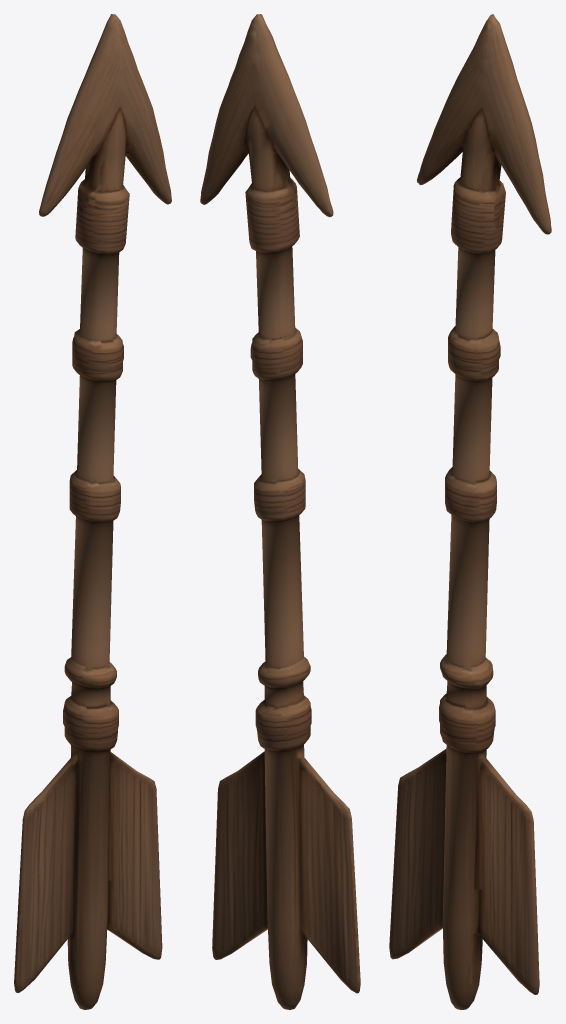
File: Weapons__primitive_arrow_e6a0532e_v3.cluster.glb
3 views of the same model, side by side, from view 1: azimuth 30°, elevation 25°; view 2: azimuth 150°, elevation 25°; view 3: azimuth 330°, elevation 25° (orthographic).
Parts seen in each view (by area): view 1: mesh_input; view 2: mesh_input; view 3: mesh_input.
Part boxes in pixels (<box>): mesh_input: <box>14,14,171,1009</box>; mesh_input: <box>200,14,360,1009</box>; mesh_input: <box>389,14,551,1009</box>.
Size of the model in its own units: 0.3203 by 1.9 by 0.0977.
Materials: 1 (1 with a texture image).
